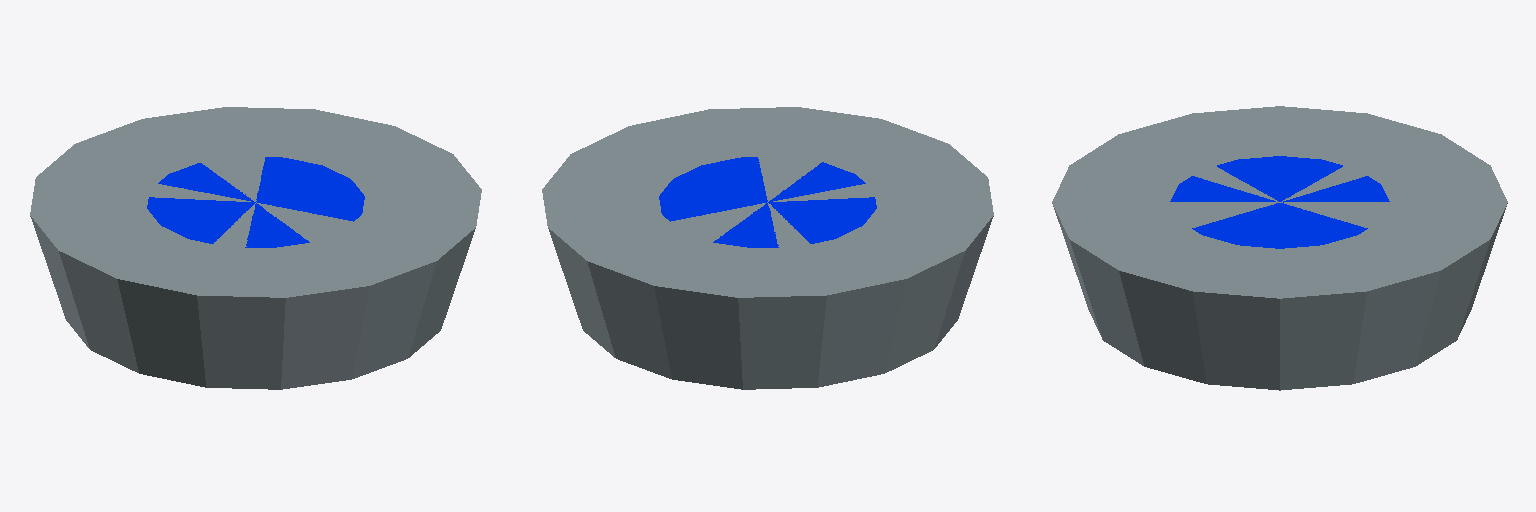
Rendered from Checkpoint.obj.
3 renders of one model, left to right at view 1: azimuth 30°, elevation 25°; view 2: azimuth 150°, elevation 25°; view 3: azimuth 270°, elevation 25°, orthographic.
Visible parts, largest first — view 1: Checkpoint; view 2: Checkpoint; view 3: Checkpoint.
Boxes of the visible parts, x1,y1,x2,y2 form: Checkpoint: [30, 107, 481, 389]; Checkpoint: [542, 107, 993, 389]; Checkpoint: [1052, 106, 1507, 390].
Size of the model in its own units: 1.16 by 0.3 by 1.16.